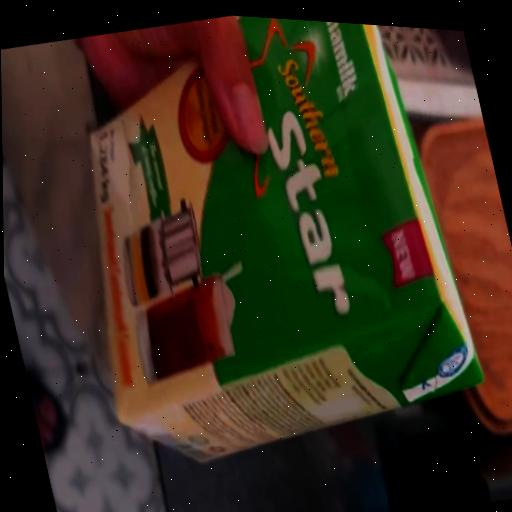ly_giay: (89, 16, 480, 460)
